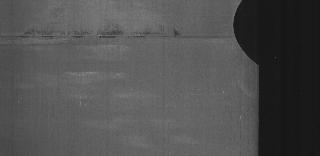welding line: (1, 34, 246, 42)
